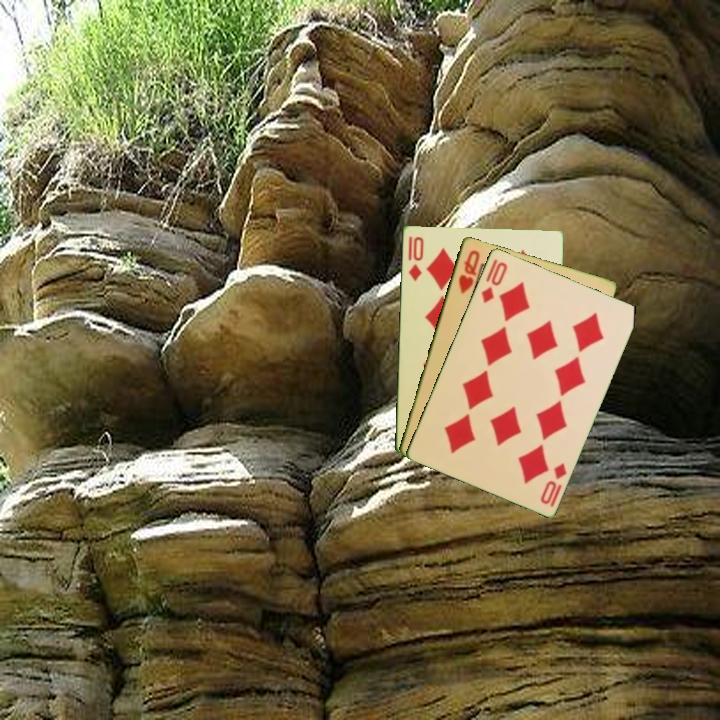10d: (537, 459, 569, 510), (478, 258, 510, 306), (404, 232, 426, 284)
Qh: (455, 246, 482, 296)
